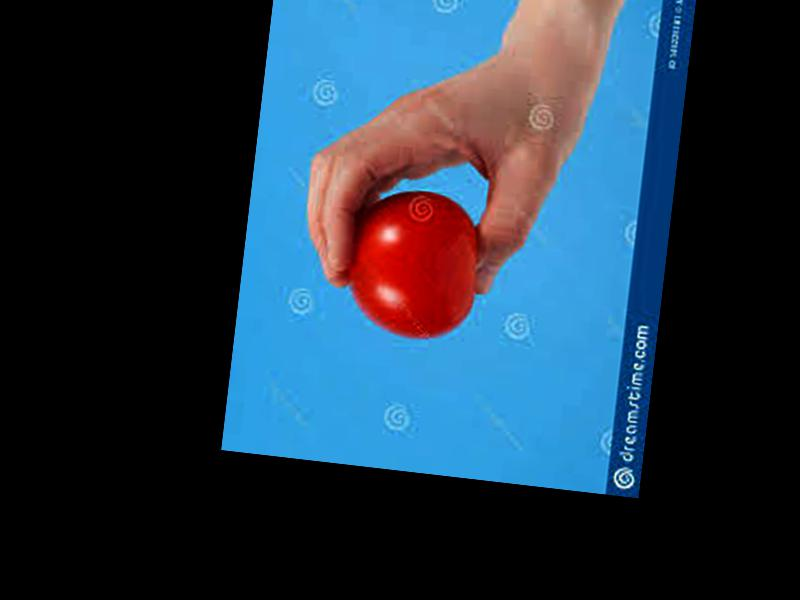Tomato: (339, 185, 485, 343)
